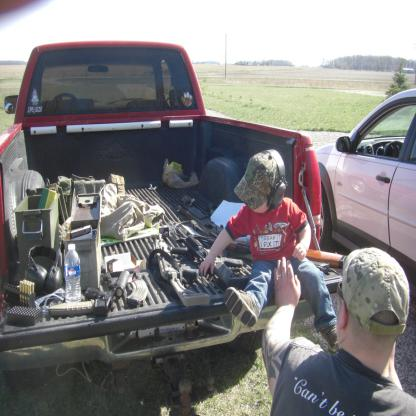Car: (306, 100, 414, 276)
